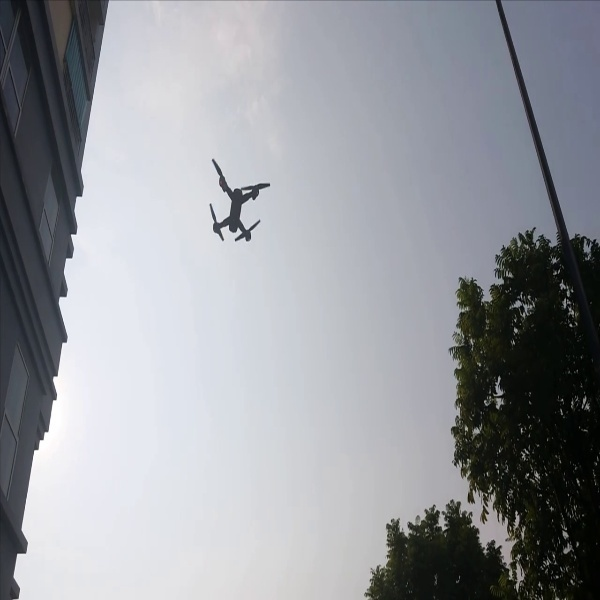drone: (201, 153, 274, 251)
